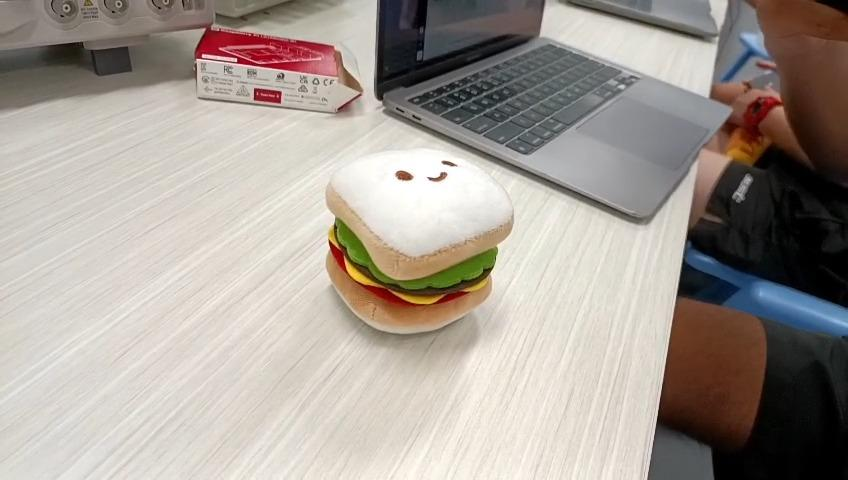objects: (323, 142, 517, 340)
